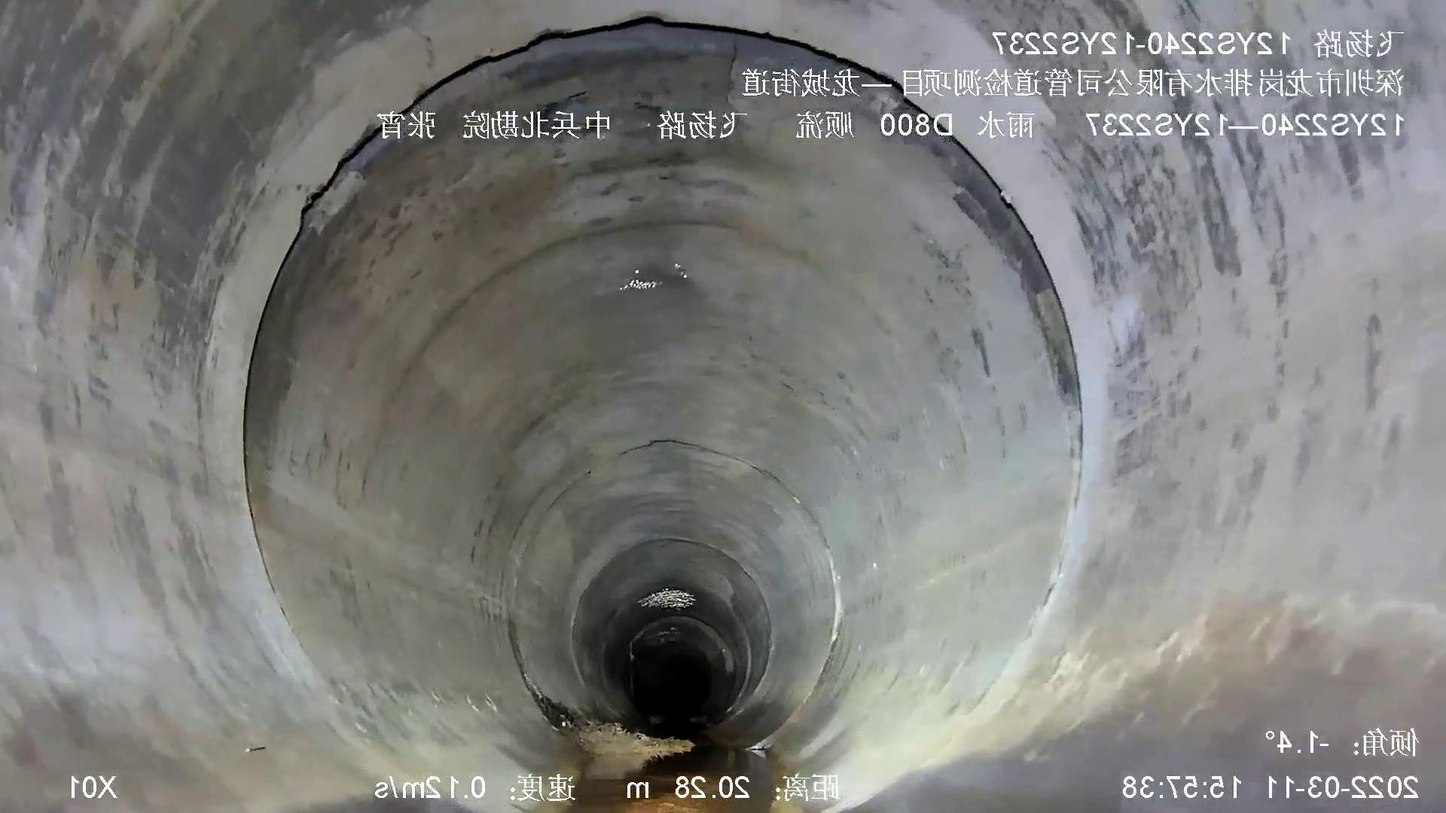CKTJ: (258, 11, 1086, 626)
